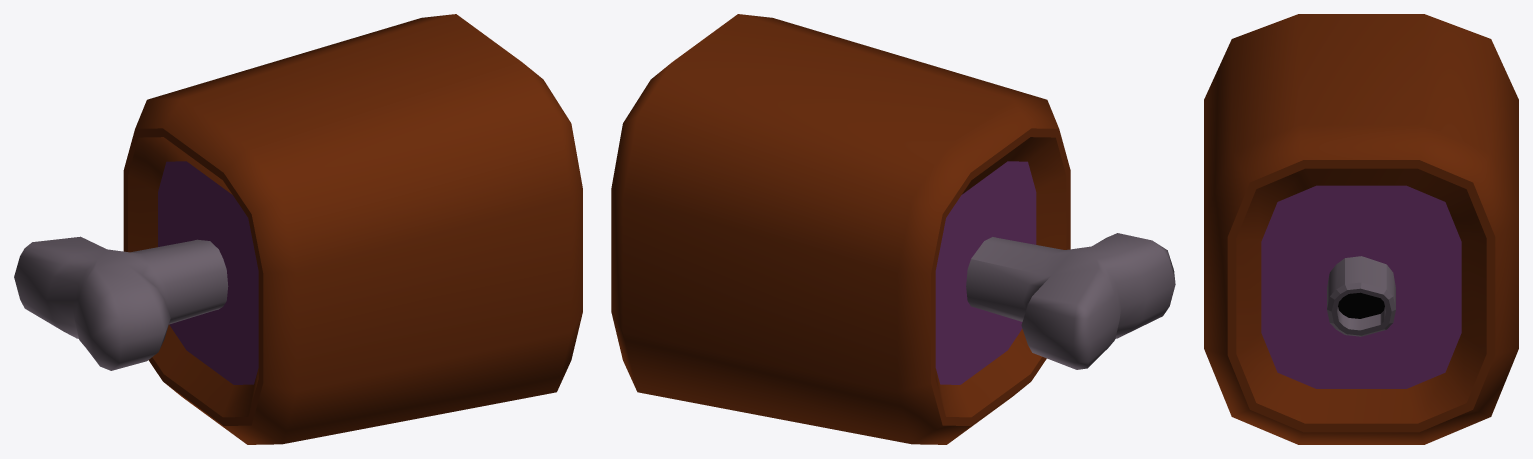
The model's file is MESH_SlicedMeat.fbx.
3 renders of one model, left to right at view 1: azimuth 30°, elevation 25°; view 2: azimuth 150°, elevation 25°; view 3: azimuth 270°, elevation 25°, orthographic. The views are drawn at different scales.
Parts seen in each view (by area): view 1: MESH_SlicedMeat; view 2: MESH_SlicedMeat; view 3: MESH_SlicedMeat.
Part boxes in pixels (left/top/right/bottom): MESH_SlicedMeat: left=14, top=14, right=582, bottom=444; MESH_SlicedMeat: left=611, top=14, right=1175, bottom=444; MESH_SlicedMeat: left=1204, top=14, right=1518, bottom=444.
Bounding box in the file's own units: 0.294 × 0.188 × 0.1676.
